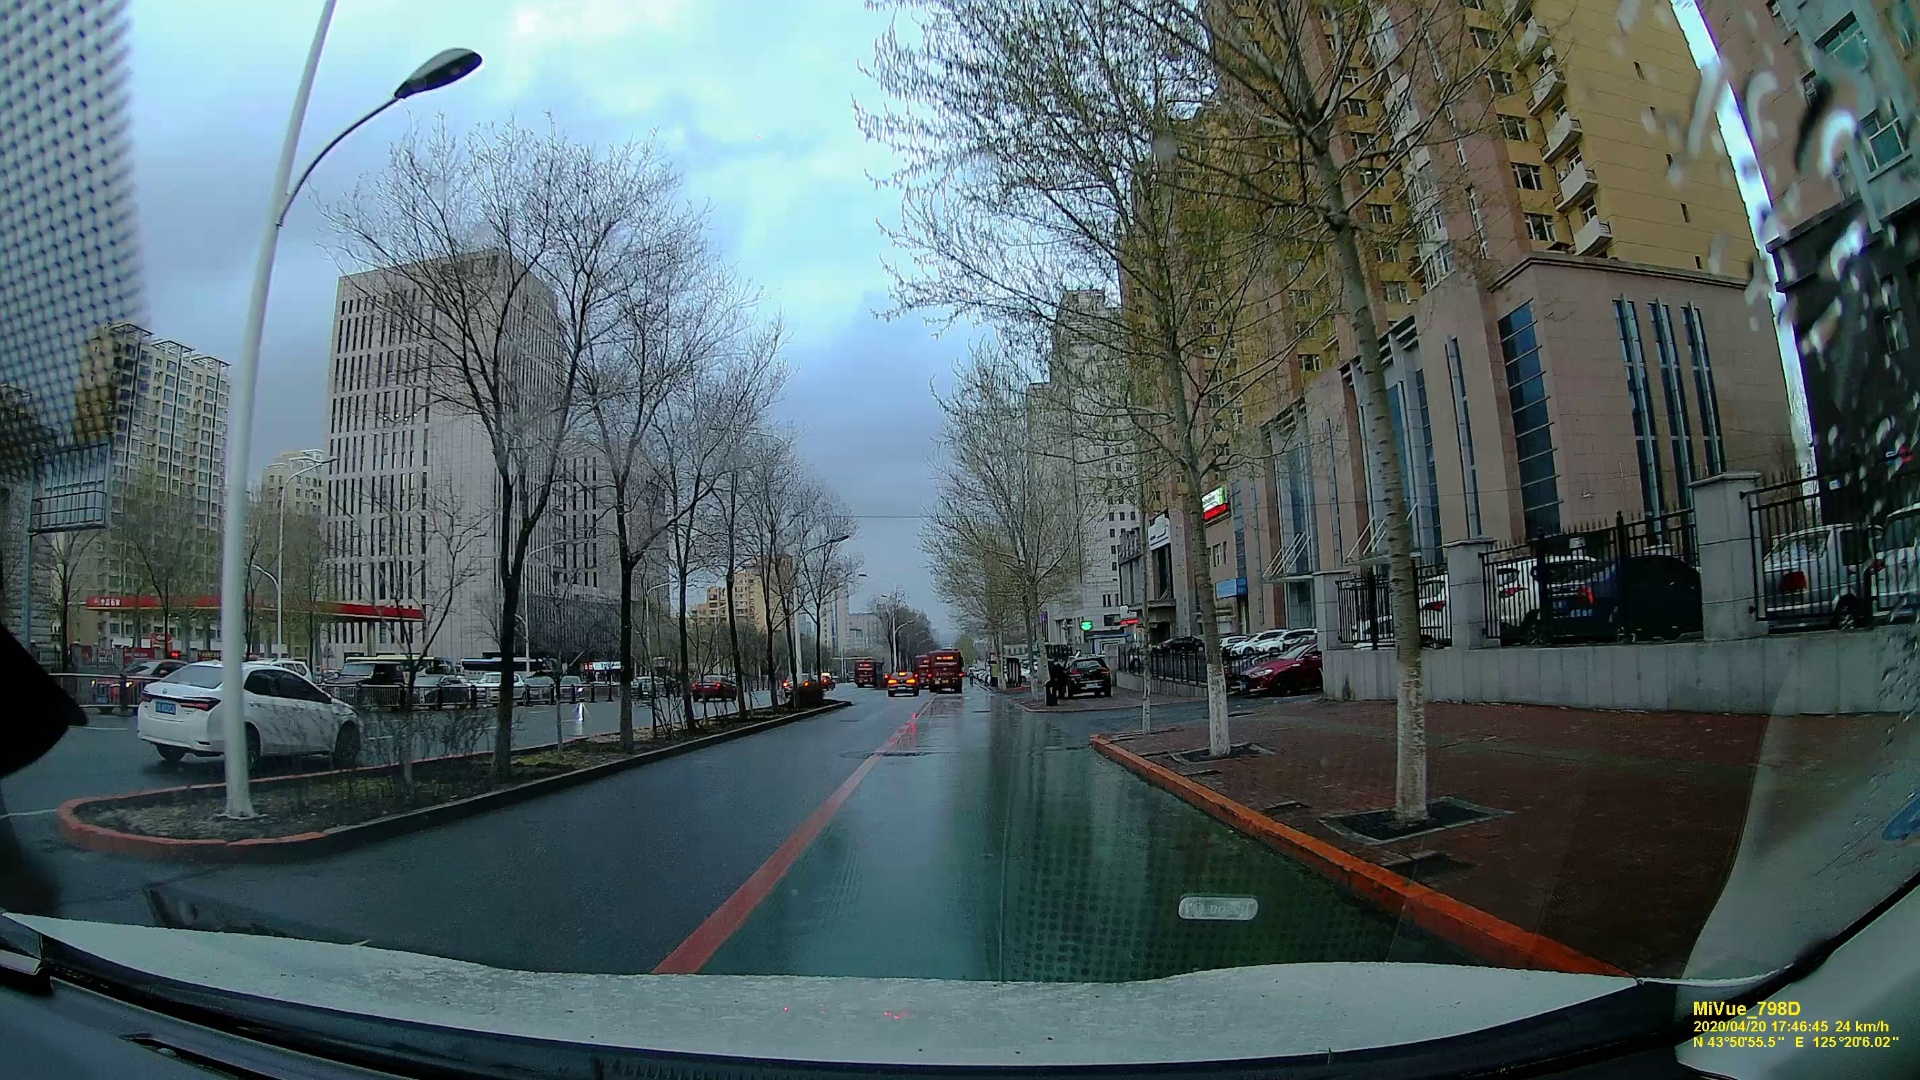bus: (927, 650, 962, 693), (855, 660, 883, 686)
person: (1051, 656, 1064, 702), (967, 668, 975, 688)
vehicle: (129, 656, 365, 769), (1065, 654, 1112, 701), (690, 675, 740, 698), (886, 670, 917, 696)
